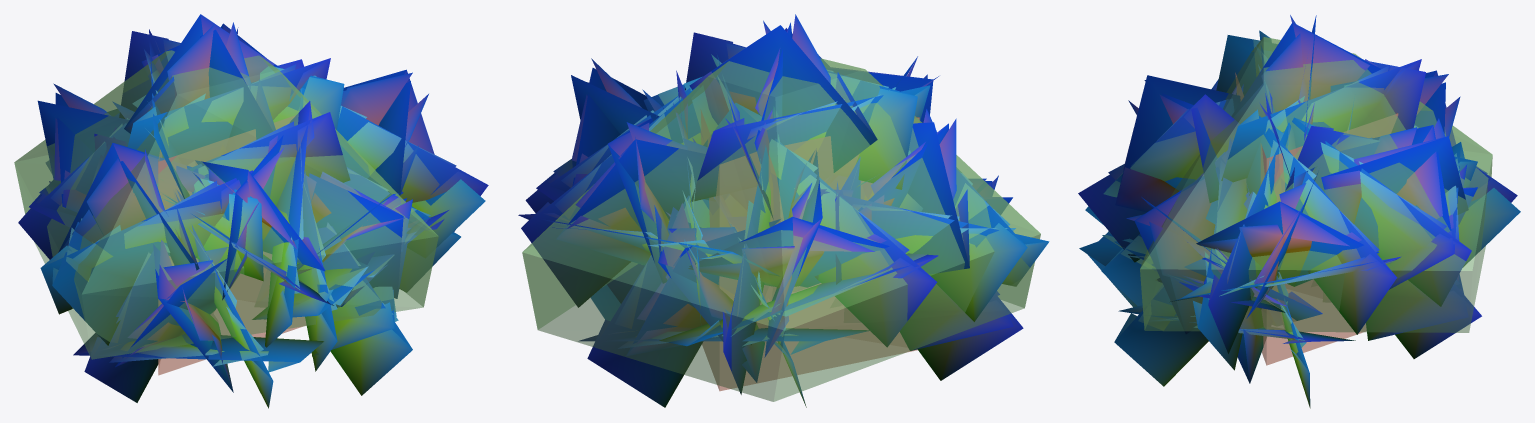
The model's file is fluffy_bush.dae.
3 views of the same model, side by side, from view 1: azimuth 30°, elevation 25°; view 2: azimuth 150°, elevation 25°; view 3: azimuth 270°, elevation 25° (orthographic). The views are drawn at different scales.
Visible parts, largest first — view 1: fluffy_bush_a1500, Colmesh-1, fluffy_bush_a200; view 2: Colmesh-1, fluffy_bush_a200, fluffy_bush_a1500; view 3: fluffy_bush_a1500, Colmesh-1, fluffy_bush_a200.
Boxes of the visible parts, box(x1,y1,x2,y2) form: fluffy_bush_a1500: box(19, 14, 488, 408); Colmesh-1: box(14, 50, 438, 375); fluffy_bush_a200: box(18, 14, 486, 402); Colmesh-1: box(522, 58, 1040, 401); fluffy_bush_a200: box(518, 22, 1048, 407); fluffy_bush_a1500: box(519, 14, 1048, 407); fluffy_bush_a1500: box(1087, 15, 1520, 408); Colmesh-1: box(1140, 37, 1492, 365); fluffy_bush_a200: box(1078, 15, 1514, 386).
Size of the model in its own units: 4.26 by 3.92 by 3.26.
